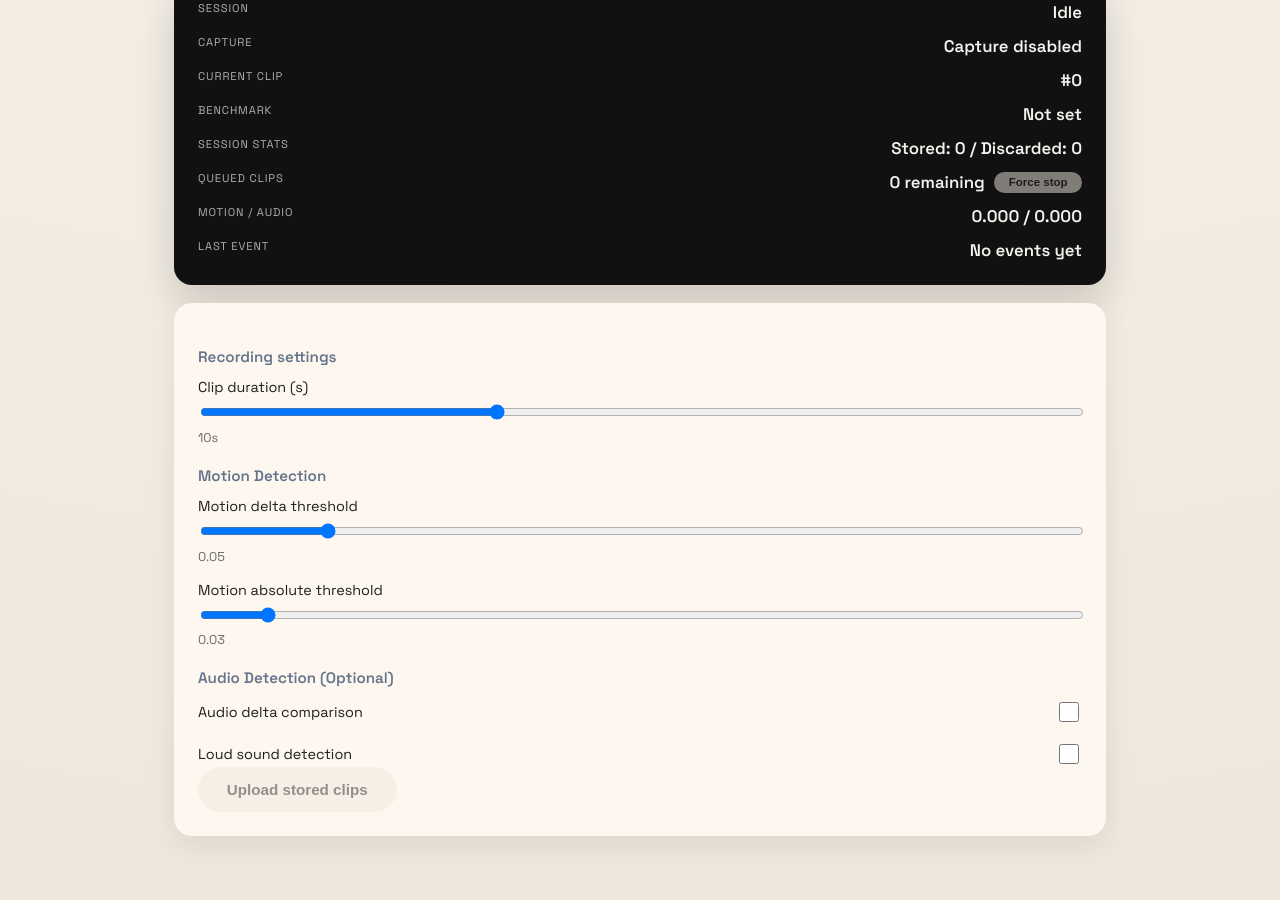
Test case: App › shows loud threshold slider when enabled
(page scrolled)
Click the checkbox named "enable loud sound detection" at point(1069, 754), box left=1059, top=744, right=1079, bottom=764
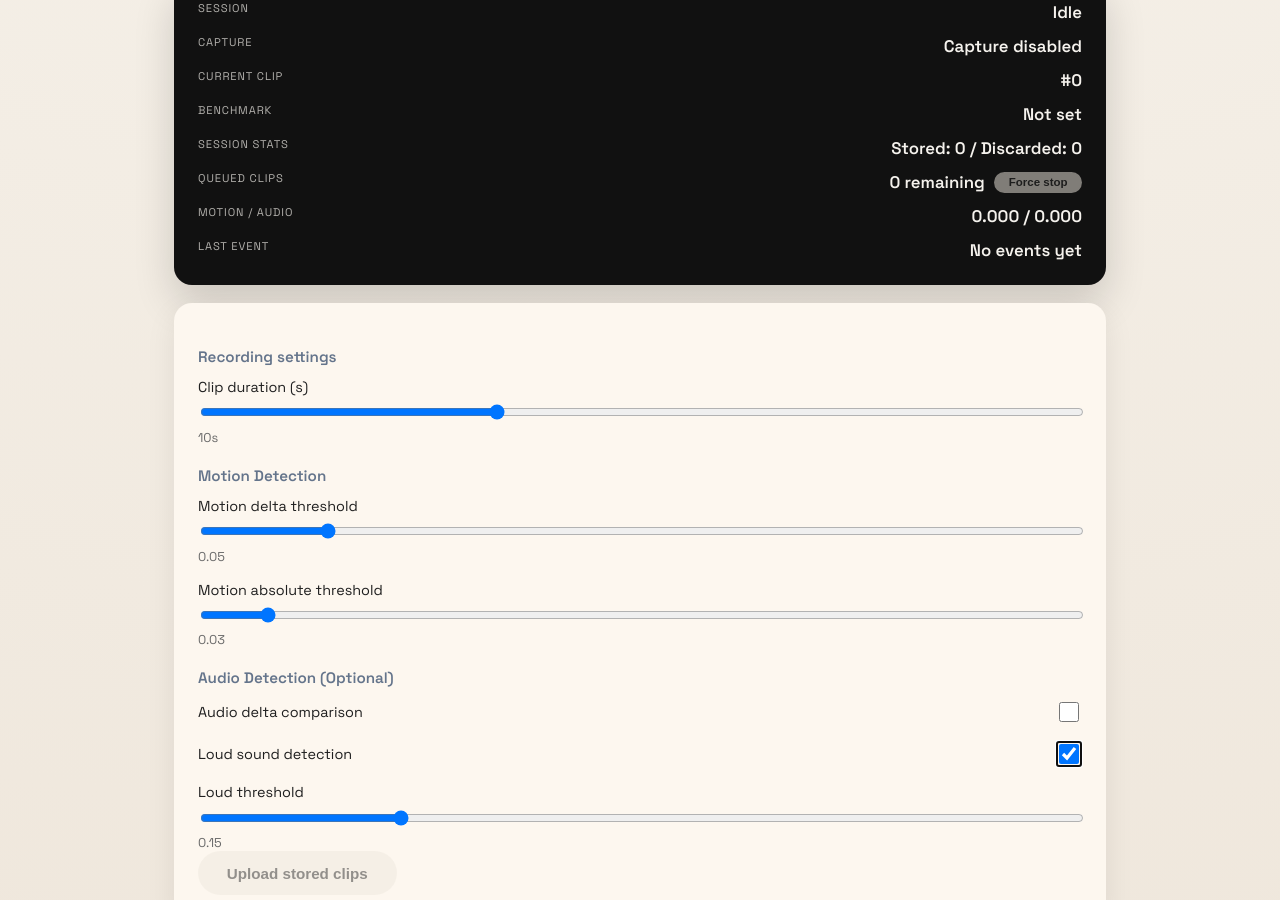
expect the slider named "audio absolute threshold" is shown: met, box left=200, top=810, right=1084, bottom=826
